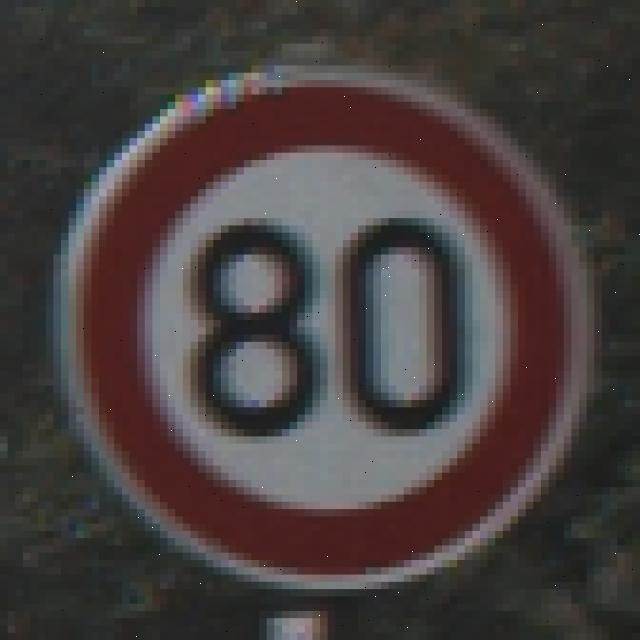speed limit 80: (50, 65, 594, 594)
